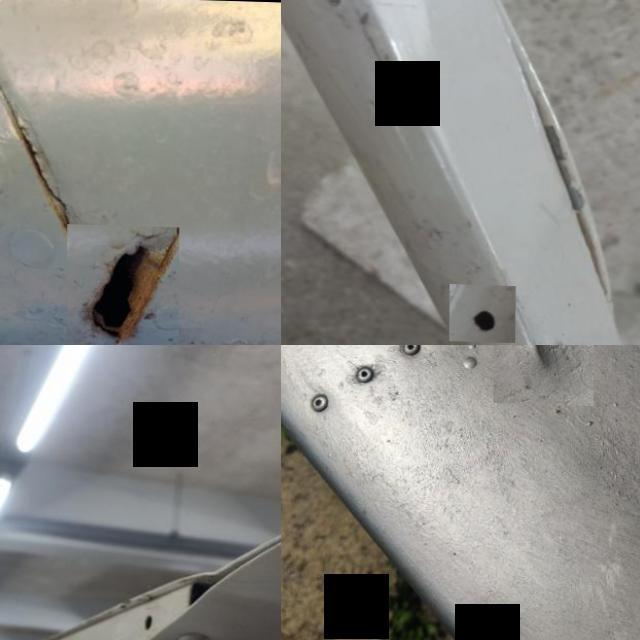Crack: (66, 222, 179, 345), (283, 0, 434, 72), (450, 283, 516, 341)
Dent: (493, 345, 594, 403)
